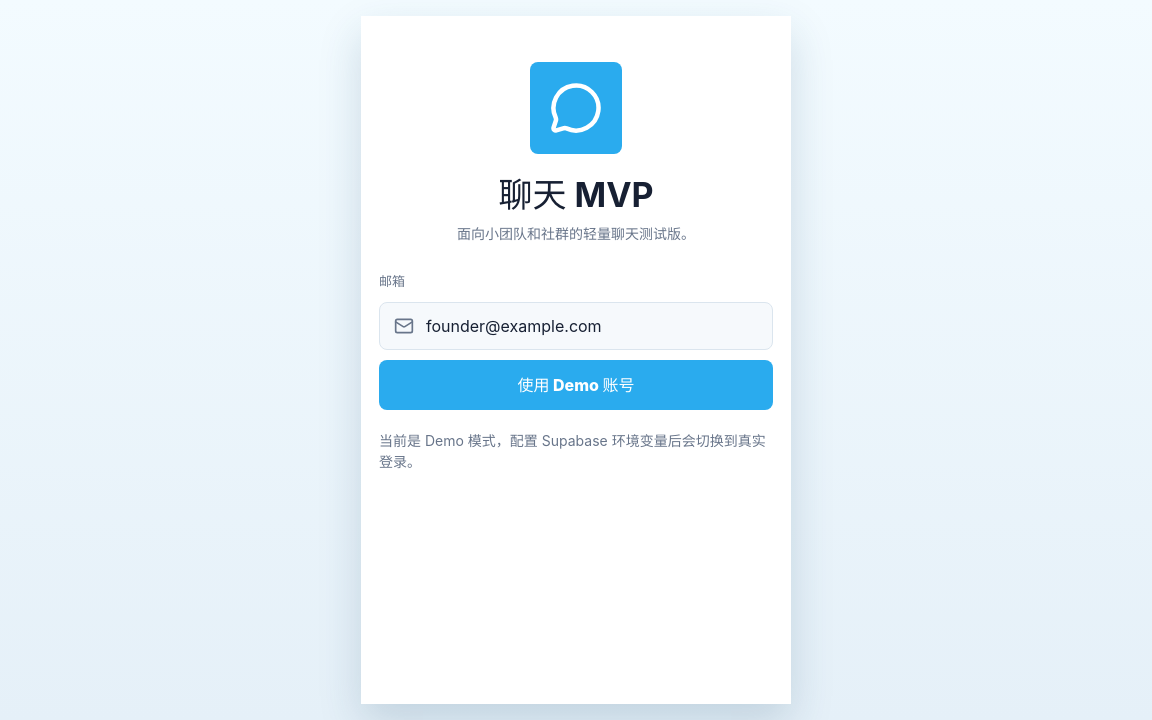
Test case: 聊天 MVP › starts in demo login mode and opens the chat list
Expected: the heading "聊天 MVP" is shown, [498,176,654,213]
Click the button "使用 Demo 账号" at (576, 385), box [379,360,773,410]
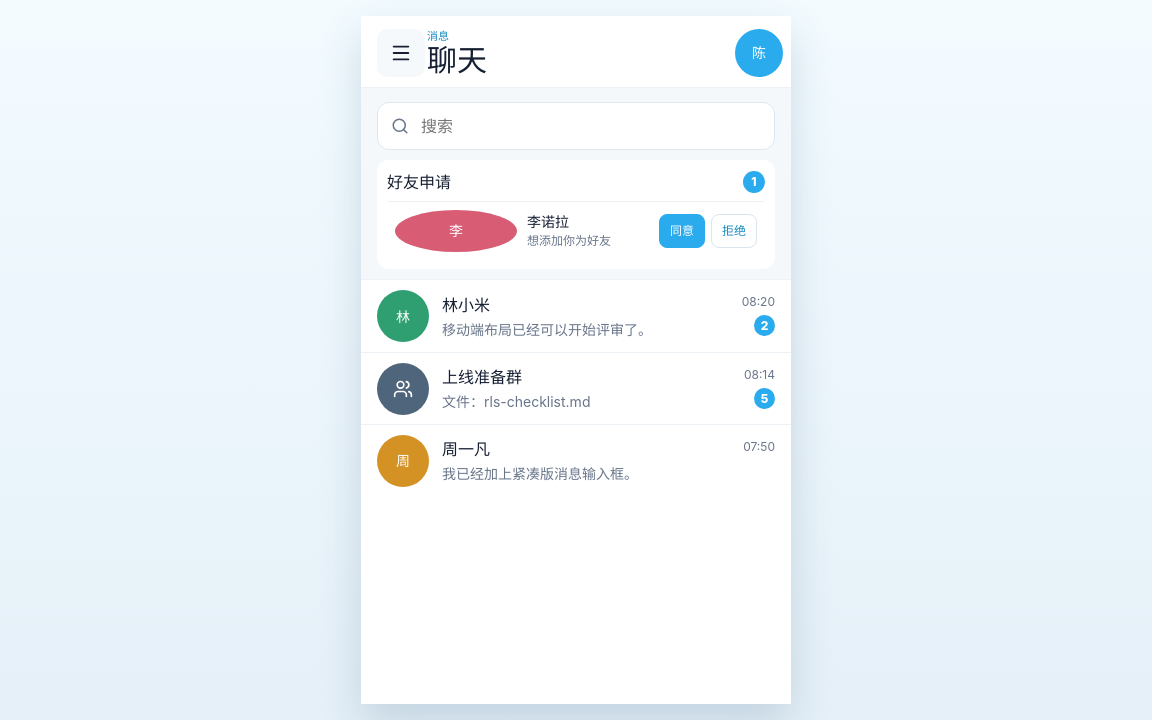
Expected: the heading "聊天" is shown, [427,42,487,78]
Now the text "林小米" is shown, box [442,294,490,314]
Now the text "文件：rls-checklist.md" is shown, box [442,393,590,410]
